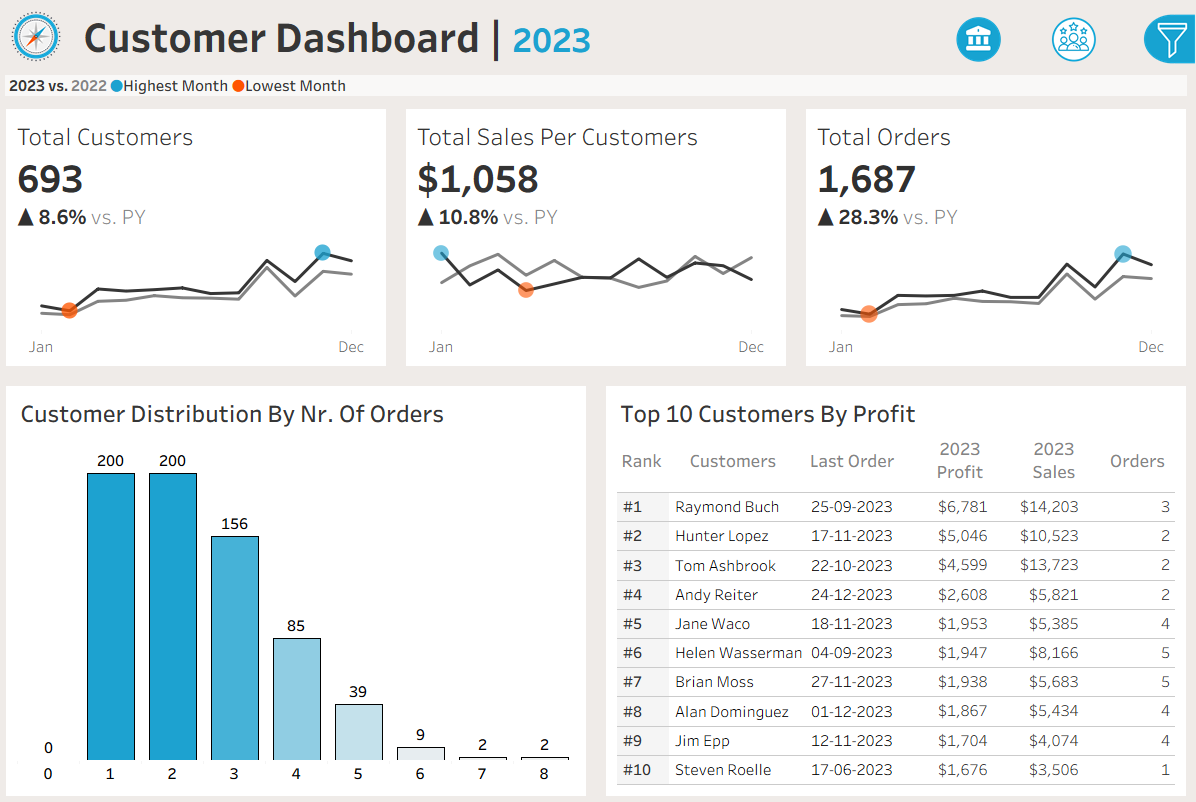

This screenshot's page, from the dashboard's own definition file:
{"tool":"tableau","page":{"name":"Customer Dashboard","canvas":[1200,800],"ordinal":0},"visuals":[{"type":"image","param":"Image/Icon - Logo.png","box":[0,0,80,60]},{"type":"text","box":[80,0,798,60]},{"type":"dashboard-object","box":[935,3,95,60]},{"type":"dashboard-object","box":[1030,3,95,60]},{"type":"blank","box":[994,13,193,56]},{"type":"worksheet","title":"Legend KPI","mark":"Automatic","box":[0,60,1200,39]},{"type":"text","box":[994,69,193,43]},{"type":"worksheet","title":"KPI Customers","mark":"Automatic","rows":["Calculation_1011606043471909"],"cols":["Order Date"],"box":[0,99,400,271]},{"type":"worksheet","title":"KPI Sales Per Customers","mark":"Automatic","rows":["Calculation_1011606043688999"],"cols":["Order Date"],"box":[400,99,400,271]},{"type":"worksheet","title":"KPI Orders","mark":"Automatic","rows":["Calculation_1011606043574310"],"cols":["Order Date"],"box":[800,99,400,271]},{"type":"parameter","param":"[Parameters].[Parameter 1]","box":[994,112,193,126]},{"type":"text","box":[994,238,193,33]},{"type":"filter","title":"KPI Customers","param":"[federated.0h2u72707i6ahw1bmsjd90rc31c1].[none:Category:nk]","box":[994,271,193,61]},{"type":"filter","title":"KPI Customers","param":"[federated.0h2u72707i6ahw1bmsjd90rc31c1].[none:Sub-Category:nk]","box":[994,332,193,61]},{"type":"text","box":[17,387,566,40]},{"type":"text","box":[617,387,566,40]},{"type":"blank","box":[994,393,193,76]},{"type":"worksheet","title":"Customer Distribution","mark":"Bar","rows":["Calculation_1011606041296923"],"cols":["Calculation_1011606041563165"],"box":[17,427,566,356]},{"type":"text","box":[617,427,57,55]},{"type":"text","box":[674,427,126,55]},{"type":"text","box":[800,427,112,55]},{"type":"text","box":[912,427,104,55]},{"type":"text","box":[1016,427,84,55]},{"type":"text","box":[1100,427,83,55]},{"type":"text","box":[994,469,193,33]},{"type":"worksheet","title":"Top Customers","mark":"Automatic","rows":["Calculation_1011606079655986","Customer Name","Order Date"],"box":[617,482,566,301]},{"type":"filter","title":"KPI Customers","param":"[federated.0h2u72707i6ahw1bmsjd90rc31c1].[none:Region:nk]","box":[994,502,193,61]},{"type":"filter","title":"KPI Customers","param":"[federated.0h2u72707i6ahw1bmsjd90rc31c1].[none:State:nk]","box":[994,563,193,61]},{"type":"filter","title":"KPI Customers","param":"[federated.0h2u72707i6ahw1bmsjd90rc31c1].[none:City:nk]","box":[994,624,193,61]}]}

Visuals, with their boxes in screenshot pixels (x1, y1, x2, y2), scaled from the page's 1200x800 canvas onto the 1196x802 screenshot:
image: <region>0, 0, 80, 60</region>
text: <region>80, 0, 875, 60</region>
dashboard-object: <region>932, 3, 1027, 63</region>
dashboard-object: <region>1027, 3, 1121, 63</region>
blank: <region>991, 13, 1183, 69</region>
"Legend KPI" worksheet: <region>0, 60, 1195, 99</region>
text: <region>991, 69, 1183, 112</region>
"KPI Customers" worksheet: <region>0, 99, 399, 371</region>
"KPI Sales Per Customers" worksheet: <region>399, 99, 797, 371</region>
"KPI Orders" worksheet: <region>797, 99, 1195, 371</region>
parameter: <region>991, 112, 1183, 239</region>
text: <region>991, 239, 1183, 272</region>
"KPI Customers" filter: <region>991, 272, 1183, 333</region>
"KPI Customers" filter: <region>991, 333, 1183, 394</region>
text: <region>17, 388, 581, 428</region>
text: <region>615, 388, 1179, 428</region>
blank: <region>991, 394, 1183, 470</region>
"Customer Distribution" worksheet (Bar marks): <region>17, 428, 581, 785</region>
text: <region>615, 428, 672, 483</region>
text: <region>672, 428, 797, 483</region>
text: <region>797, 428, 909, 483</region>
text: <region>909, 428, 1013, 483</region>
text: <region>1013, 428, 1096, 483</region>
text: <region>1096, 428, 1179, 483</region>
text: <region>991, 470, 1183, 503</region>
"Top Customers" worksheet: <region>615, 483, 1179, 785</region>
"KPI Customers" filter: <region>991, 503, 1183, 564</region>
"KPI Customers" filter: <region>991, 564, 1183, 626</region>
"KPI Customers" filter: <region>991, 626, 1183, 687</region>
